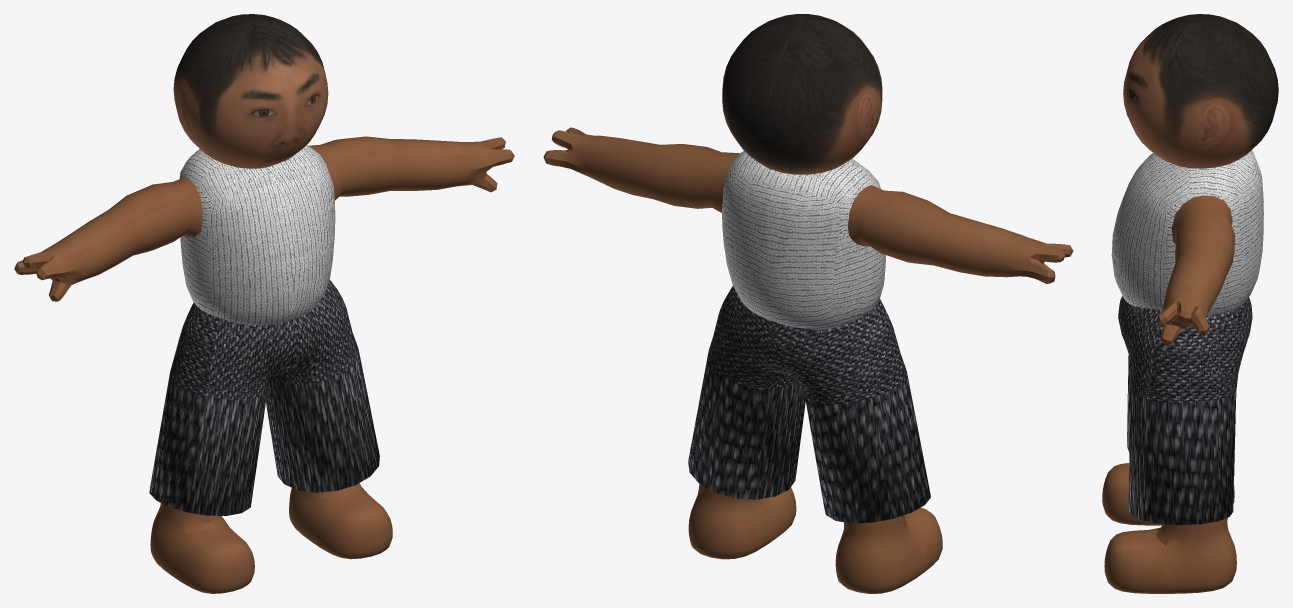
File: 5 npc.fbx
The picture shows the model from 3 angles, left to right: view 1: azimuth 30°, elevation 25°; view 2: azimuth 150°, elevation 25°; view 3: azimuth 270°, elevation 25°; orthographic projection. The views are drawn at different scales.
Visible parts, largest first — view 1: pasted__pasted__polySurface16; view 2: pasted__pasted__polySurface16; view 3: pasted__pasted__polySurface16.
Part boxes in pixels (bbox=[...]): pasted__pasted__polySurface16: bbox=[14, 14, 514, 593]; pasted__pasted__polySurface16: bbox=[543, 14, 1073, 593]; pasted__pasted__polySurface16: bbox=[1102, 14, 1278, 593].
Bounding box in the file's own units: 7.24 × 7.46 × 2.27.
Materials: 4 (4 with a texture image).
